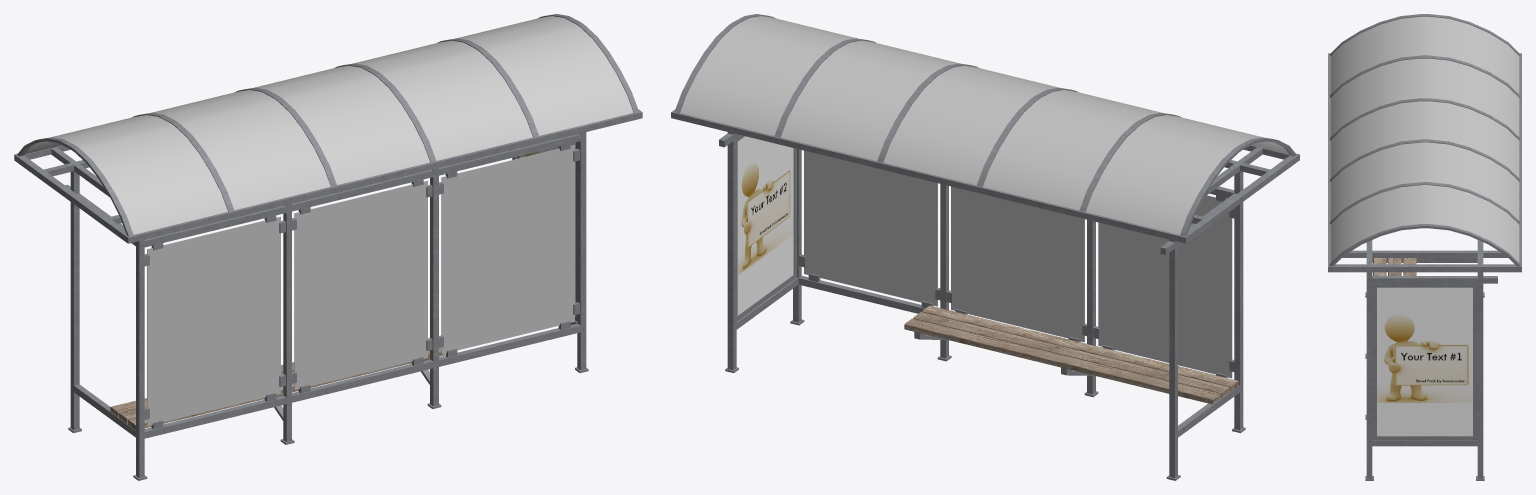
The model's file is bus_stop.FBX.
The picture shows the model from 3 angles, left to right: view 1: azimuth 30°, elevation 25°; view 2: azimuth 150°, elevation 25°; view 3: azimuth 270°, elevation 25°; orthographic projection. The views are drawn at different scales.
Parts seen in each view (by area): view 1: Object001, Object002, Box003, Object003; view 2: Object002, Object001, Box003, Object003, Object005; view 3: Object002, Box003, Object004, Object003.
Part boxes in pixels (left/top/right/bottom): Object001: left=147, top=145, right=574, bottom=425; Object002: left=25, top=16, right=633, bottom=234; Box003: left=14, top=14, right=642, bottom=480; Object003: left=110, top=338, right=444, bottom=430; Object002: left=680, top=16, right=1288, bottom=234; Object001: left=804, top=150, right=1232, bottom=378; Box003: left=671, top=14, right=1299, bottom=480; Object003: left=904, top=305, right=1238, bottom=404; Object005: left=737, top=136, right=793, bottom=315; Object002: left=1331, top=16, right=1519, bottom=262; Box003: left=1328, top=14, right=1521, bottom=480; Object004: left=1377, top=287, right=1472, bottom=436; Object003: left=1373, top=258, right=1416, bottom=275.
Size of the model in its own units: 180 by 105 by 69.
